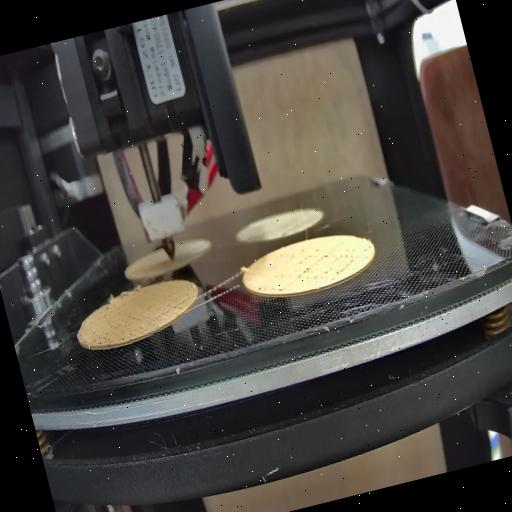under_extrusion: (290, 236, 362, 286), (87, 306, 147, 350), (150, 298, 190, 324), (256, 278, 284, 299)
